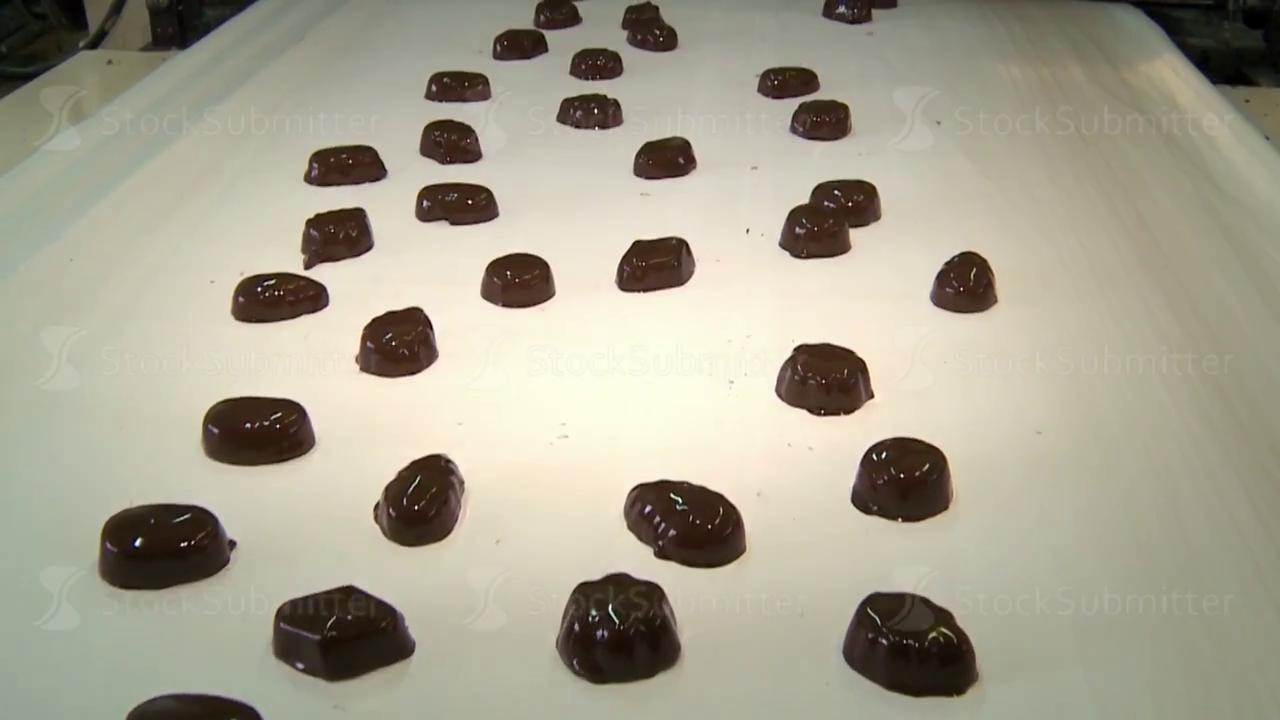chocolate: (842, 590, 978, 697), (555, 571, 681, 683), (272, 584, 415, 681), (98, 502, 235, 590), (623, 478, 746, 568), (850, 436, 953, 522), (373, 452, 465, 546), (201, 395, 315, 465), (775, 341, 874, 416), (356, 306, 438, 377), (231, 271, 328, 322), (616, 236, 695, 292), (301, 207, 373, 268), (930, 250, 997, 313), (481, 252, 555, 308), (779, 203, 851, 258), (124, 692, 262, 719), (415, 182, 499, 225), (304, 144, 387, 186), (810, 178, 881, 226), (621, 1, 678, 52), (419, 118, 482, 164), (633, 136, 696, 179), (790, 99, 851, 140), (556, 93, 623, 130), (424, 70, 491, 102), (757, 66, 819, 99), (492, 28, 548, 61), (569, 47, 623, 80), (534, 0, 582, 30)
